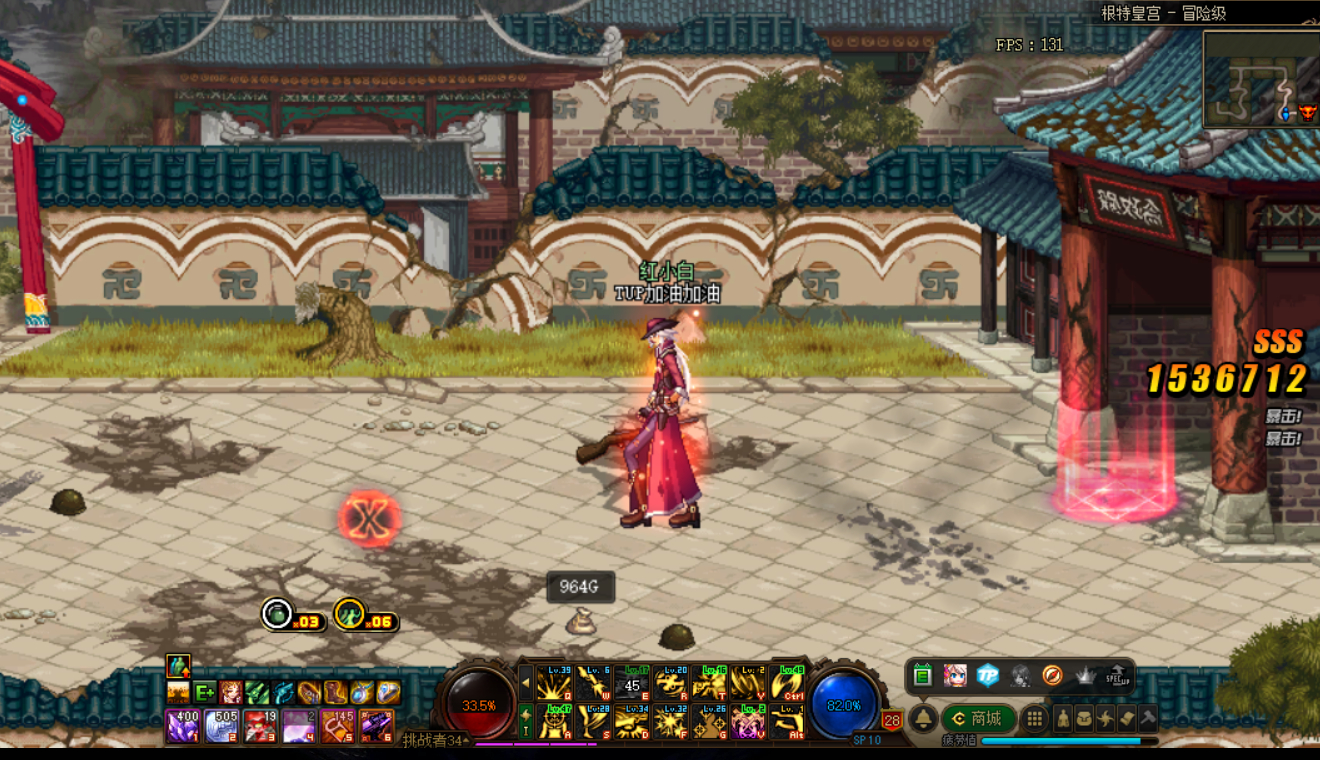warrior: (578, 321, 712, 537)
